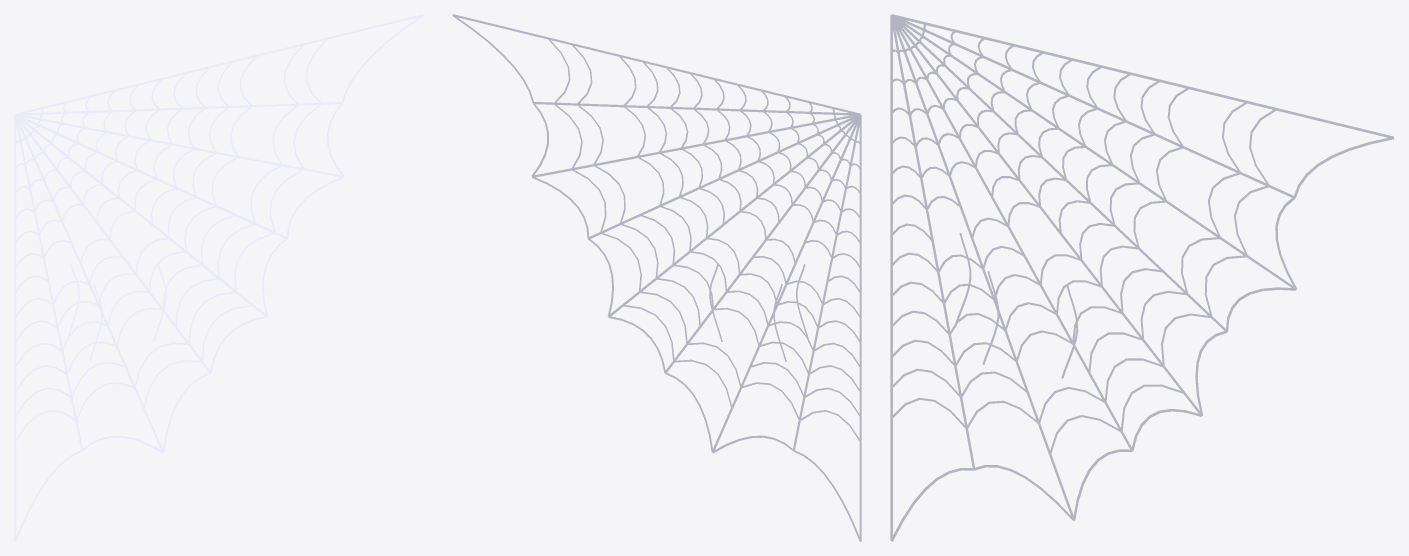
File: teia_canto_v01.glb
3 renders of one model, left to right at view 1: azimuth 30°, elevation 25°; view 2: azimuth 150°, elevation 25°; view 3: azimuth 330°, elevation 25°, orthographic. The views are drawn at different scales.
Parts seen in each view (by area): view 1: teia_canto; view 2: teia_canto; view 3: teia_canto.
Part boxes in pixels (x1,y1,x2,y2): teia_canto: (14,14,423,541); teia_canto: (452,14,861,541); teia_canto: (890,14,1394,541).
Size of the model in its own units: 1 by 1 by 0.
1 material, 1 textured.
